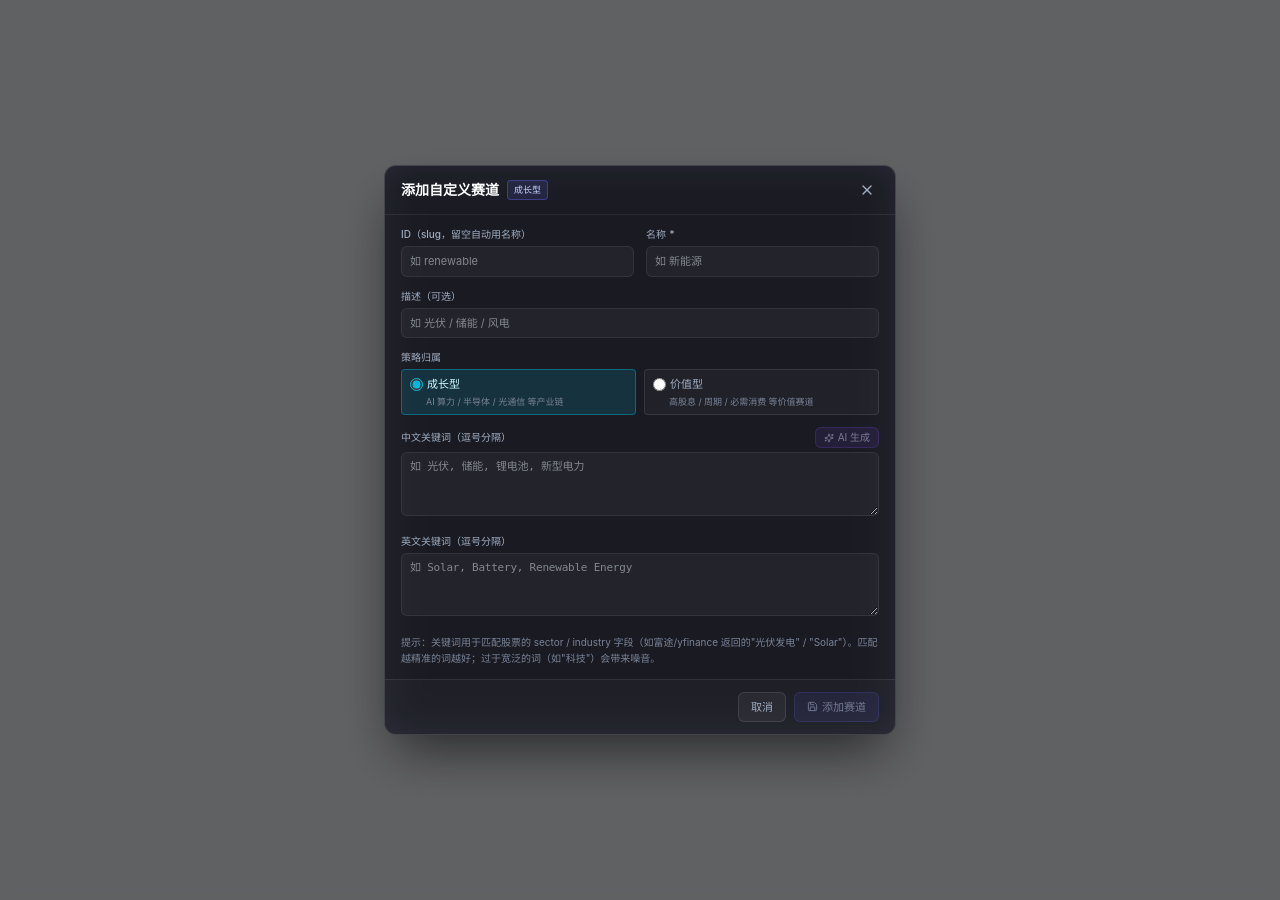
it: AddSupertrendDialog › AI 生成失败时显示 error 信息
Type "新能源" into the field with placeholder "如 新能源" at (762, 261), box [646, 246, 879, 276]
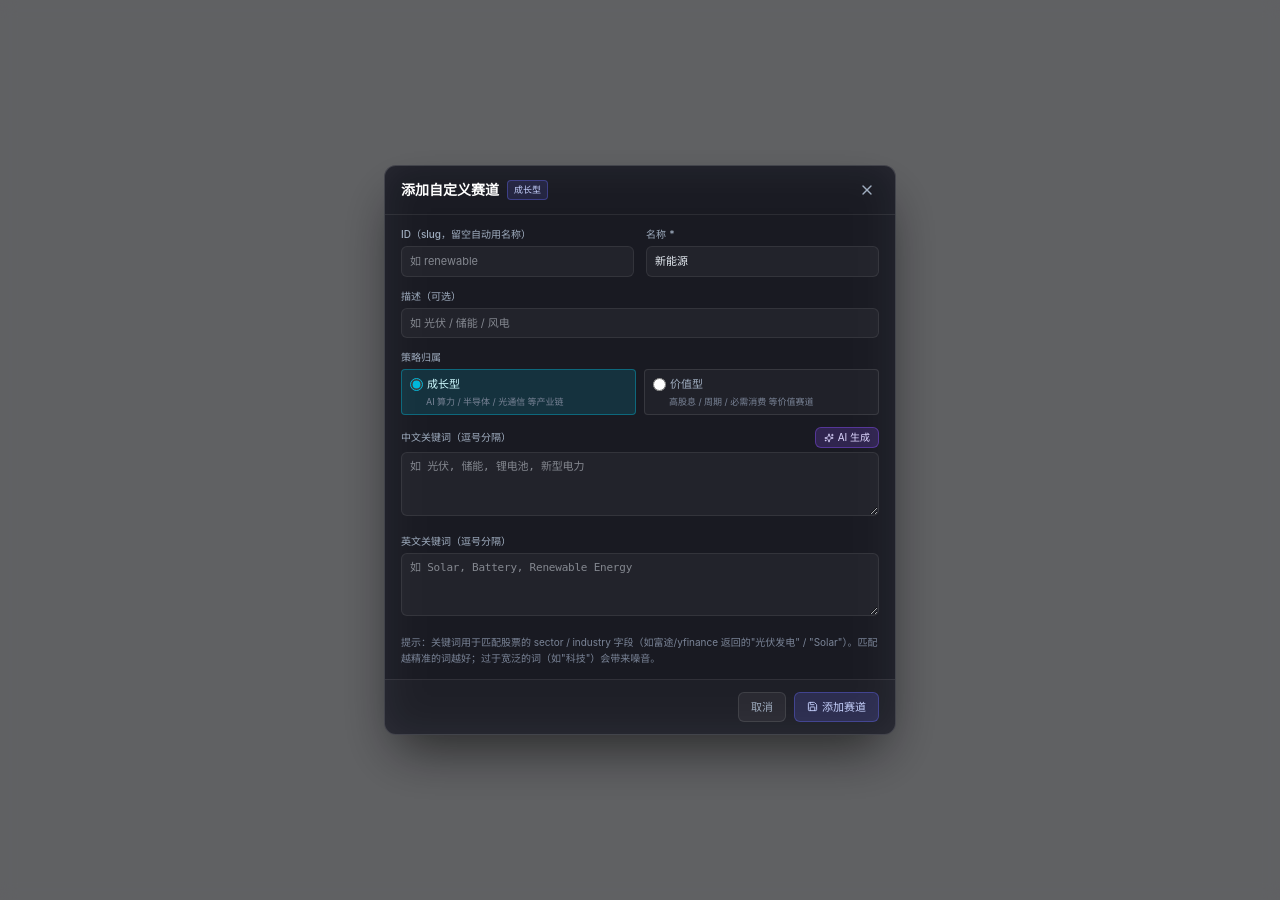
Click the button "AI 生成" at (847, 438), box [815, 427, 879, 448]
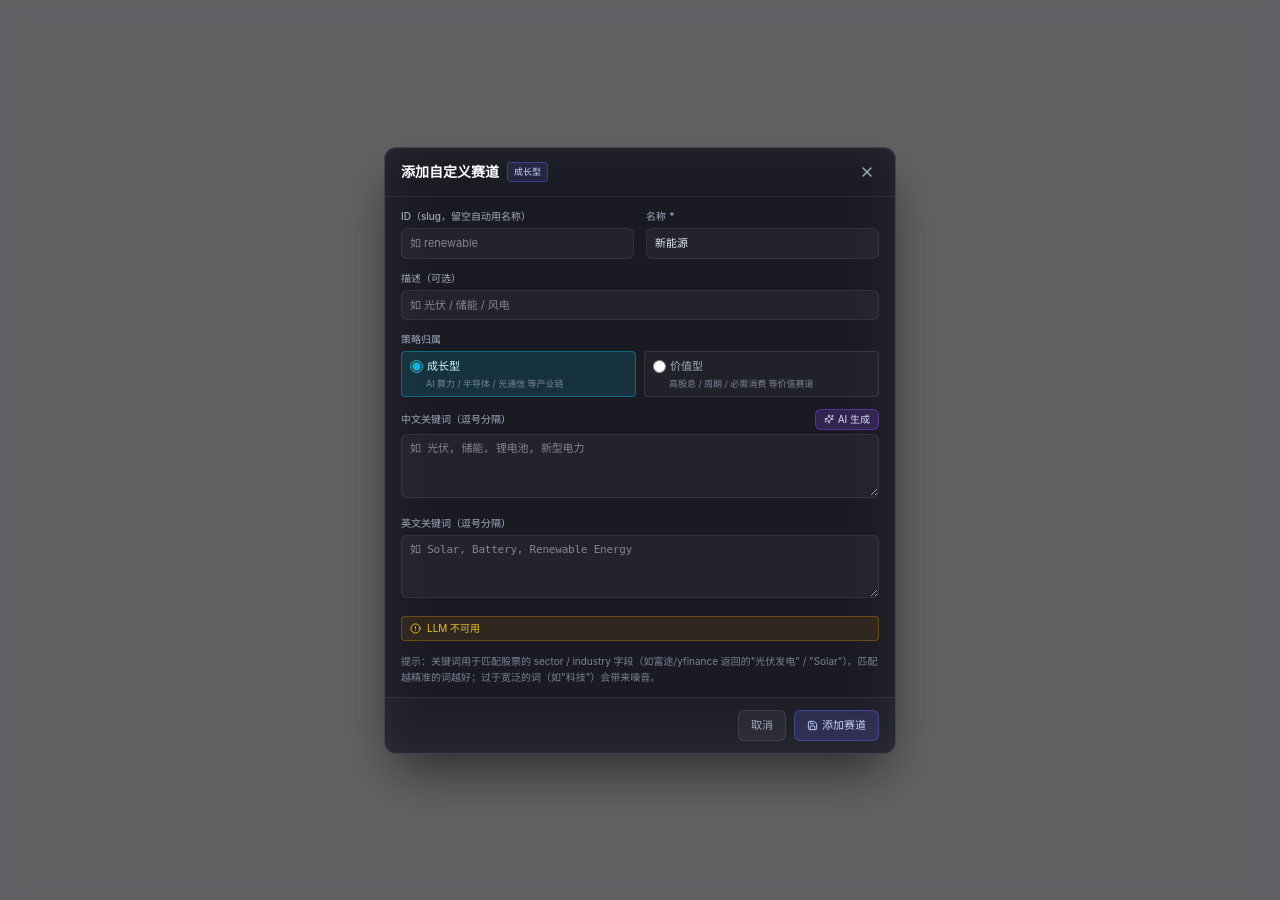
Now the text "LLM 不可用" is shown, box [427, 620, 480, 636]
